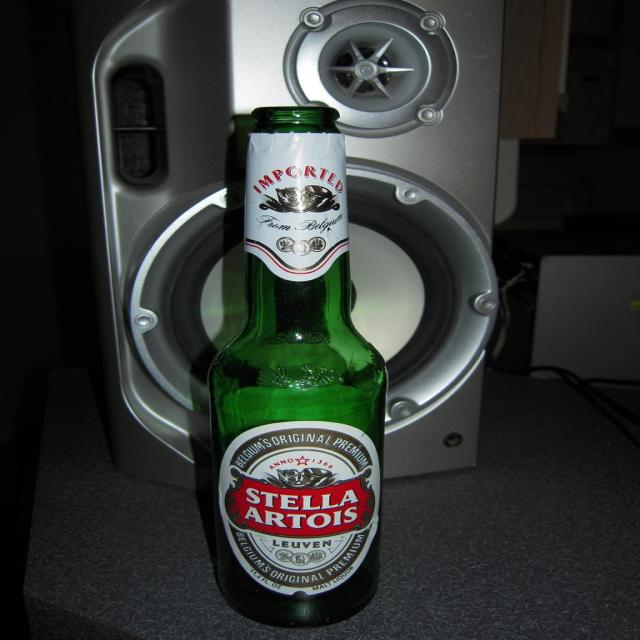stellaartois: (227, 429, 378, 589)
